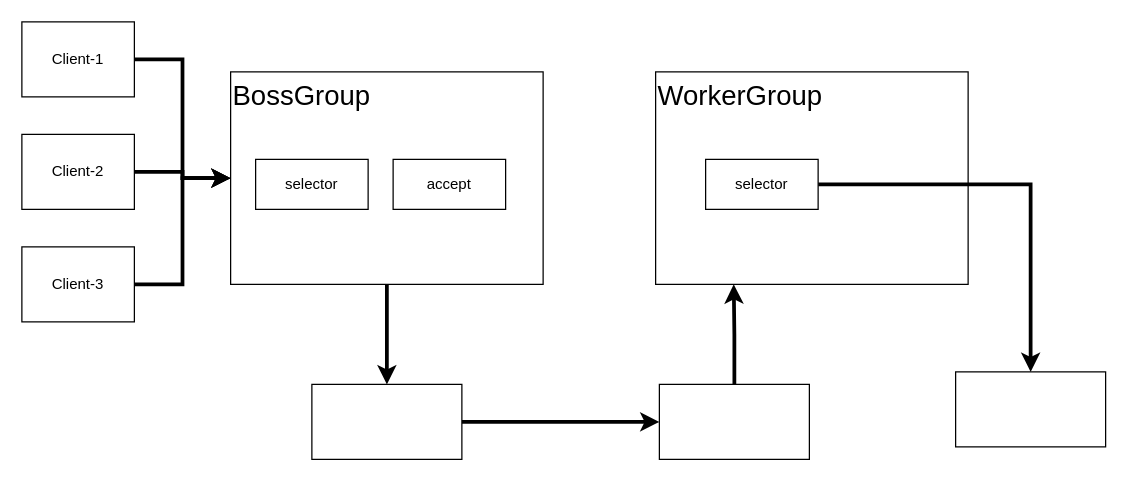
Image size: 1128x481. Some labels were removed from this diagram. Each missing label, with the centre of its shape:
Handler: [1030,409]
NIOSocketChannel: [733,421]
SocketChannel: [386,421]
